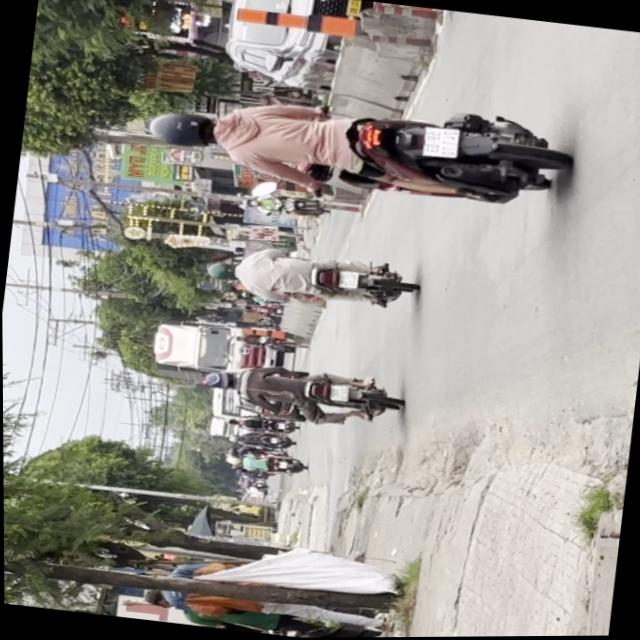helmet: (143, 105, 219, 152), (200, 367, 234, 389), (201, 259, 233, 281)
licenseplate: (140, 71, 574, 221), (197, 237, 417, 318), (195, 353, 403, 432)
nohelmet: (419, 125, 458, 159), (335, 270, 357, 289), (327, 383, 347, 403)
